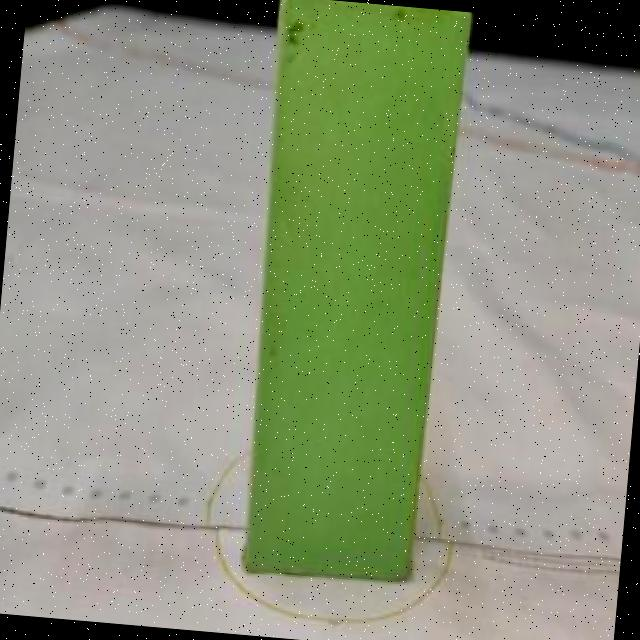greenbox: (219, 0, 479, 605)
